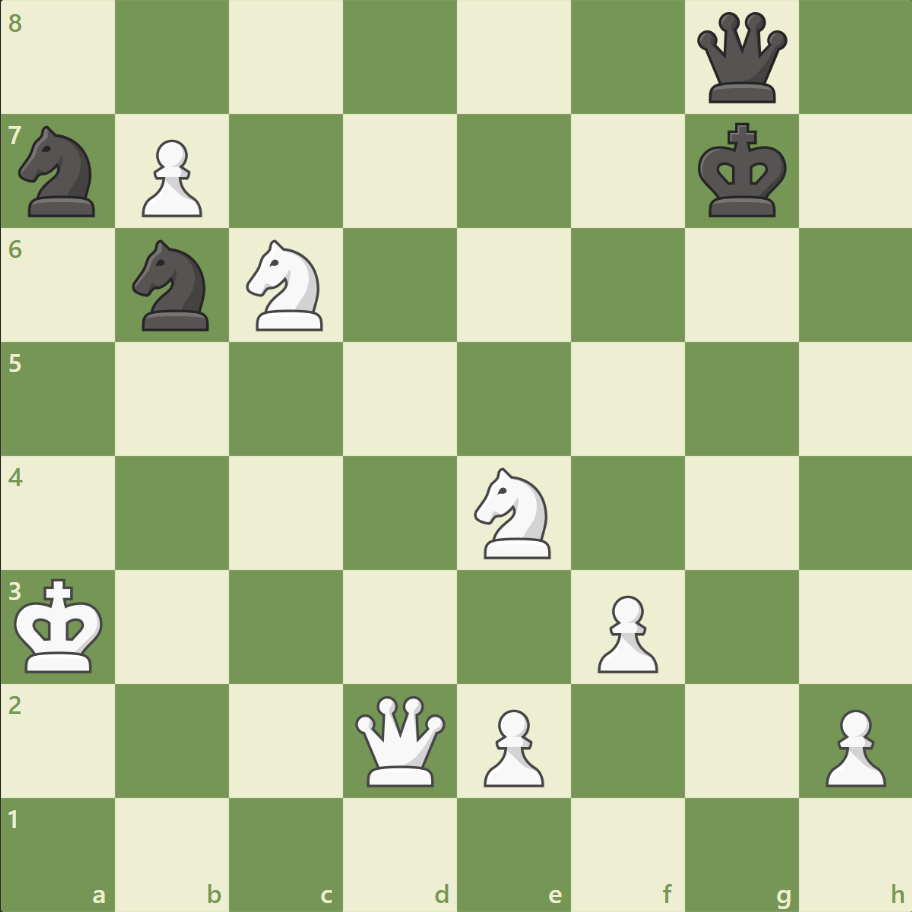K: (11, 571, 111, 679)
N: (238, 234, 335, 337), (465, 461, 562, 564)
P: (133, 132, 208, 223), (474, 700, 549, 791), (588, 586, 662, 677), (815, 700, 889, 791)
Q: (351, 690, 450, 789)
k: (692, 117, 792, 225)
n: (124, 234, 222, 337), (11, 121, 108, 223)
q: (691, 9, 790, 108)
